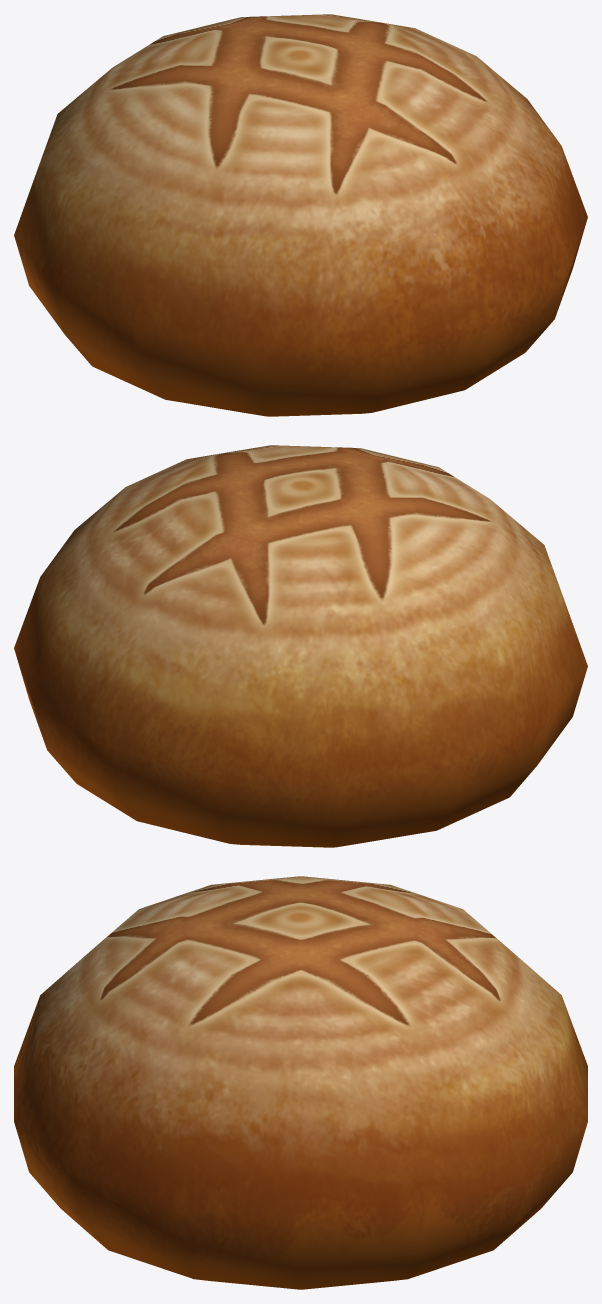
Rendered from Sourdough.fbx.
The picture shows the model from 3 angles, top to bottom: view 1: azimuth 30°, elevation 25°; view 2: azimuth 150°, elevation 25°; view 3: azimuth 270°, elevation 25°; orthographic projection. The views are drawn at different scales.
Visible parts, largest first — view 1: Sourdough; view 2: Sourdough; view 3: Sourdough.
Boxes of the visible parts, left/top/right/bottom form: Sourdough: left=14, top=14, right=587, bottom=416; Sourdough: left=14, top=445, right=587, bottom=847; Sourdough: left=14, top=876, right=587, bottom=1289.
Bounding box in the file's own units: 72.45 × 39.39 × 70.63.
